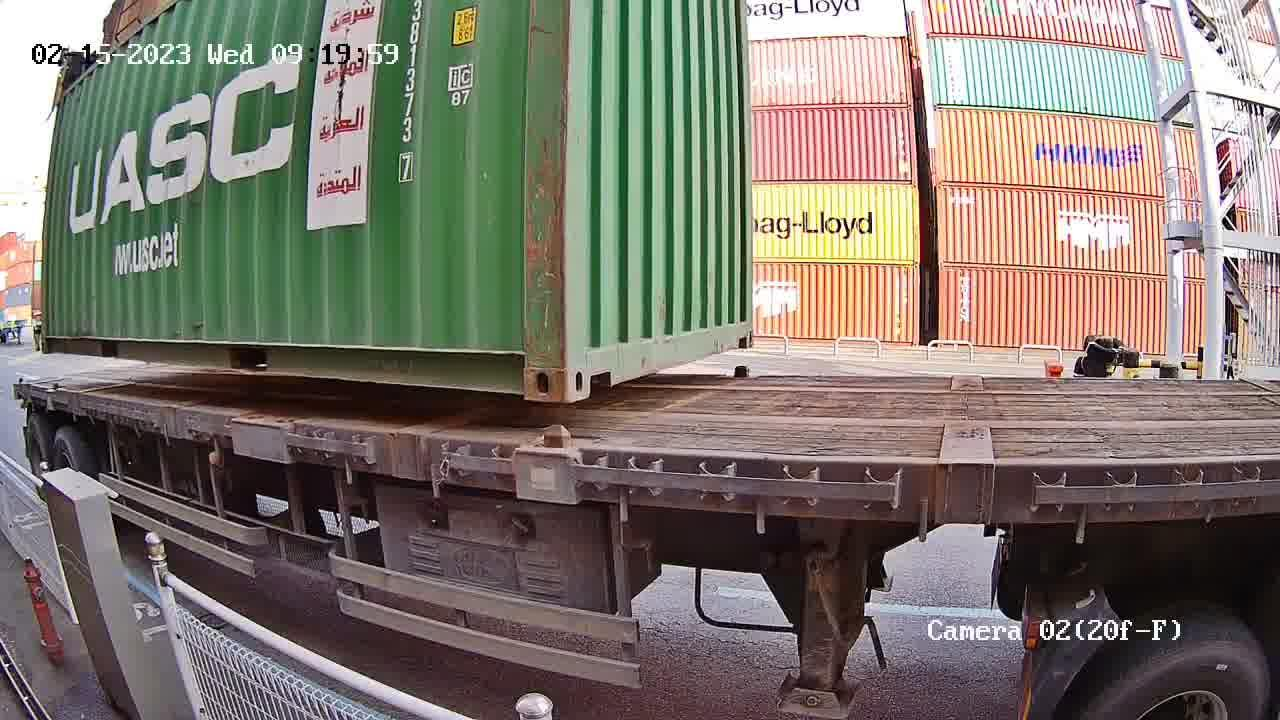Cone: (541, 427, 575, 451), (729, 362, 753, 380)
Hole_L: (566, 319, 618, 399)
Hole_R: (495, 324, 563, 394), (725, 303, 756, 349)
